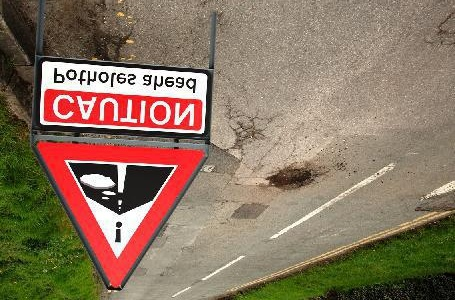pothole: (265, 162, 323, 192)
